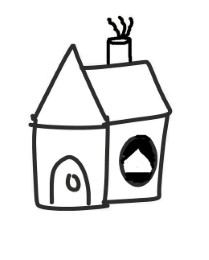door: (44, 149, 95, 216)
open_window: (115, 131, 162, 188)
roof: (29, 44, 171, 129)
smoking_chimney: (94, 11, 142, 76)
wall: (26, 114, 112, 215)
